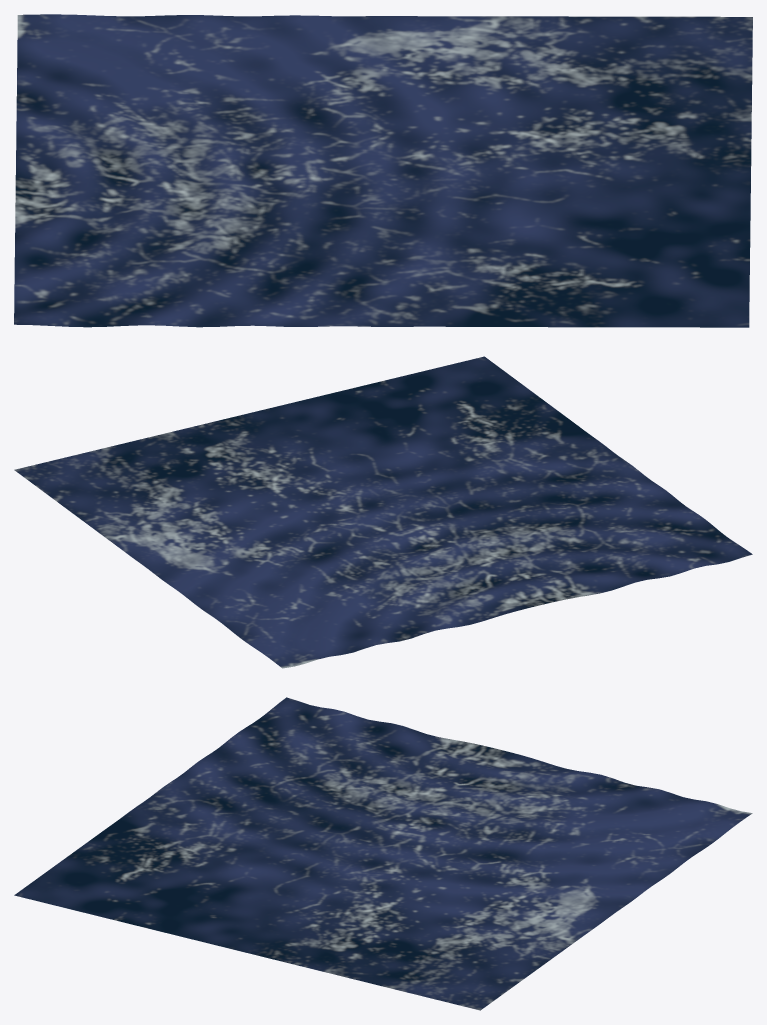
Rendered from Water_Animation_AAA_V2.fbx.
The picture shows the model from 3 angles, top to bottom: view 1: azimuth 30°, elevation 25°; view 2: azimuth 150°, elevation 25°; view 3: azimuth 270°, elevation 25°; orthographic projection. The views are drawn at different scales.
Parts seen in each view (by area): view 1: Water; view 2: Water; view 3: Water.
Boxes of the visible parts, box(x1,y1,x2,y2) form: Water: box(14, 14, 752, 327); Water: box(14, 356, 752, 668); Water: box(14, 697, 752, 1010).
Size of the model in its own units: 235 by 0.9489 by 235.
